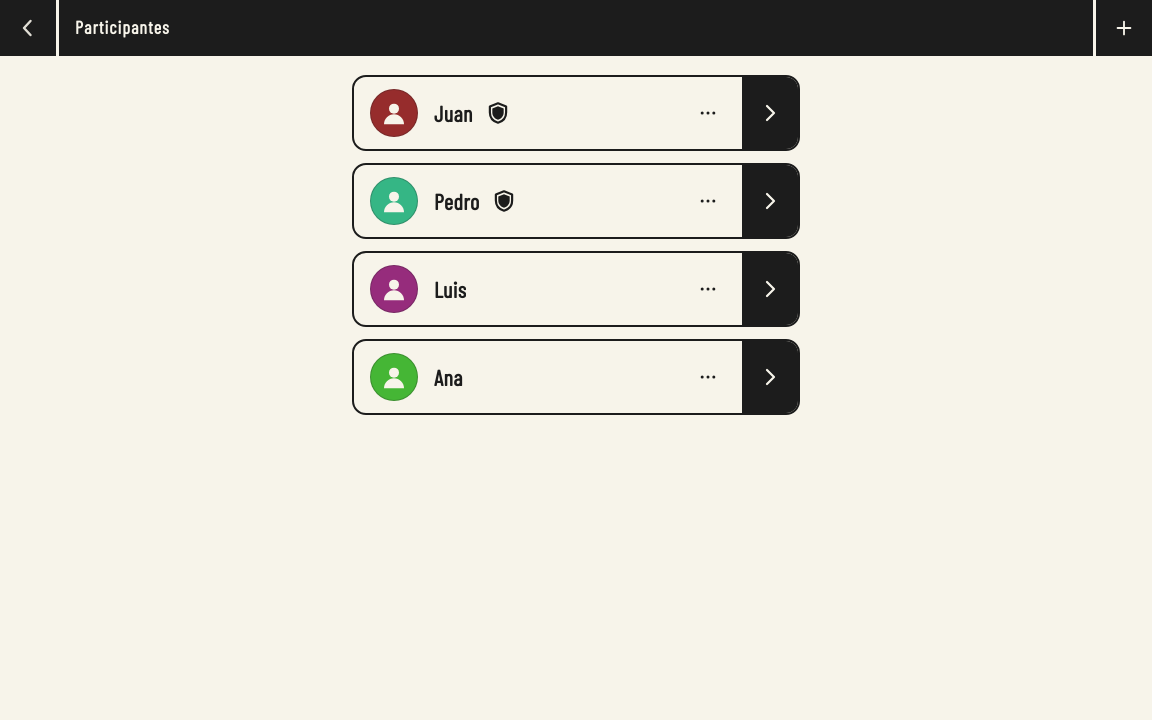
it: ParticipantsScreen (administración) › el administrador pone la foto solo a un integrante que nadie eligió
// Pedro (m2) ya fue elegido: su foto es la de su cuenta.
Click the button named "Opciones de Pedro" at [708, 201], box [686,179,730,223]
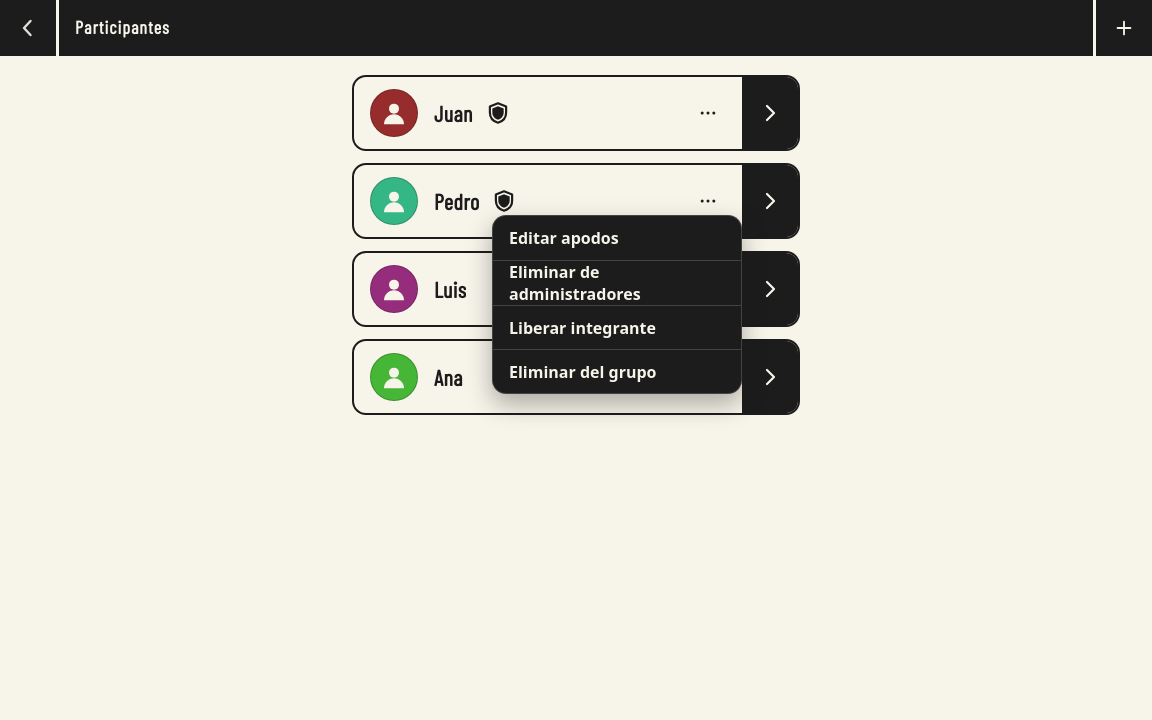
Expected: the menu item "Cambiar foto" is not shown
Click the button named "Opciones de Pedro" at [708, 201], box [686,179,730,223]
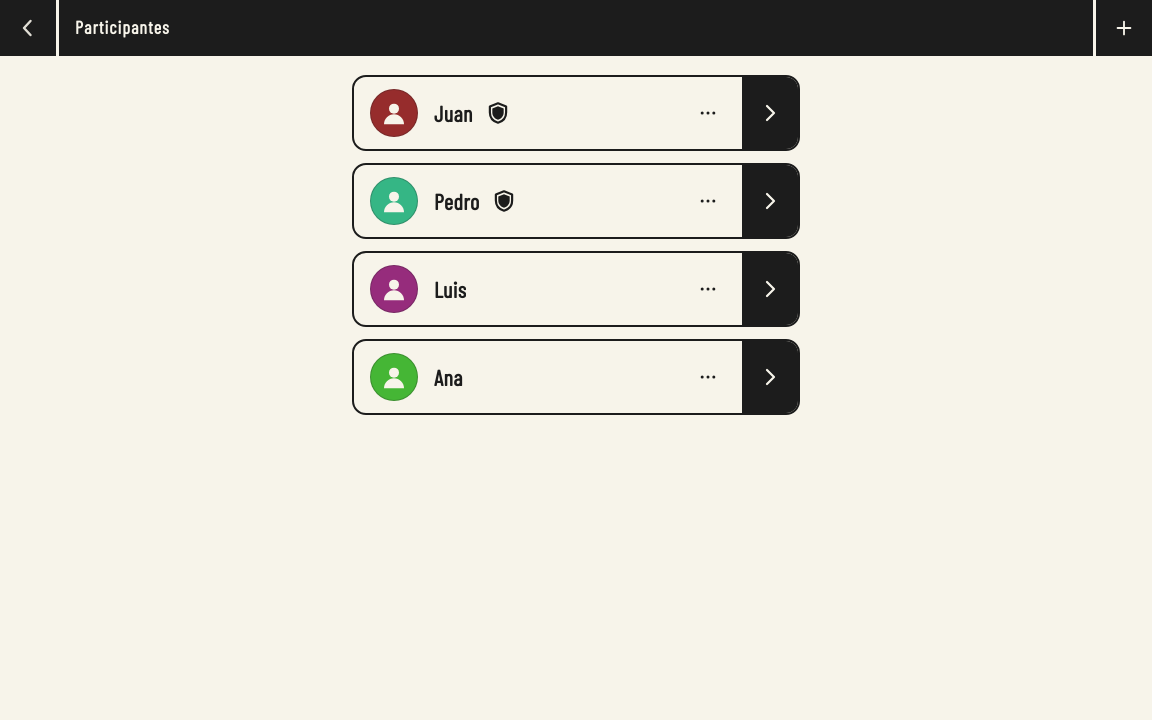
Click the button named "Opciones de Luis" at [708, 289], box [686,267,730,311]
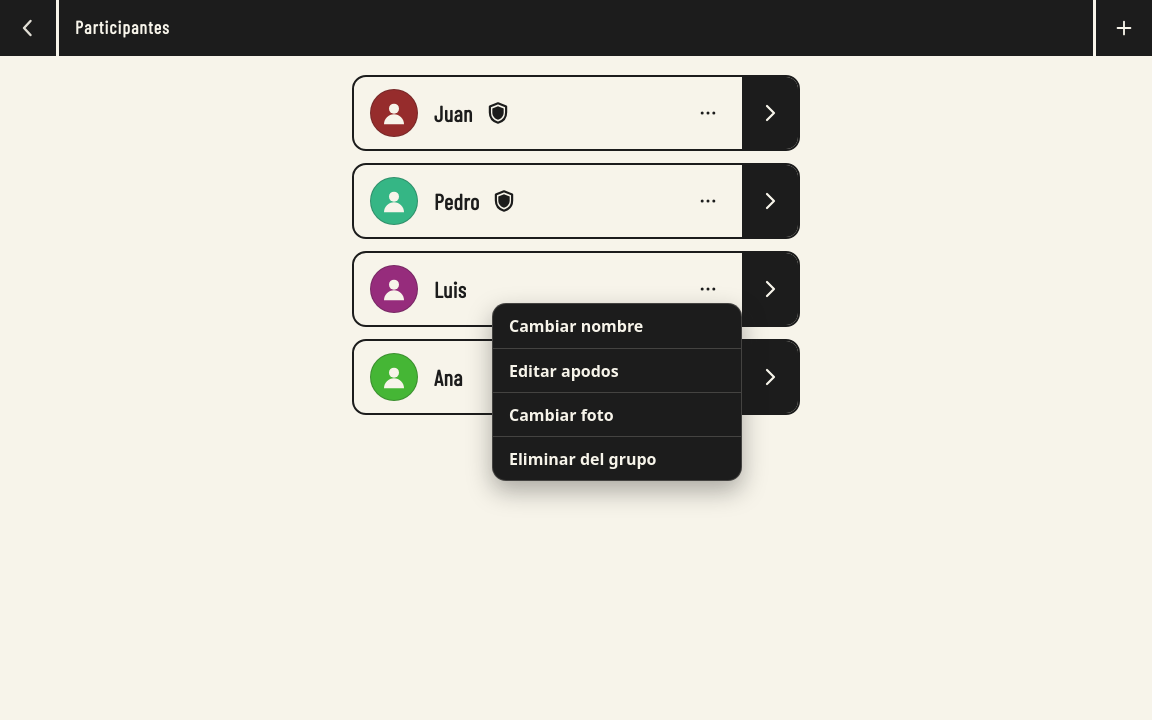
Click the menu item "Cambiar foto" at [617, 414], box [493,392,741,436]
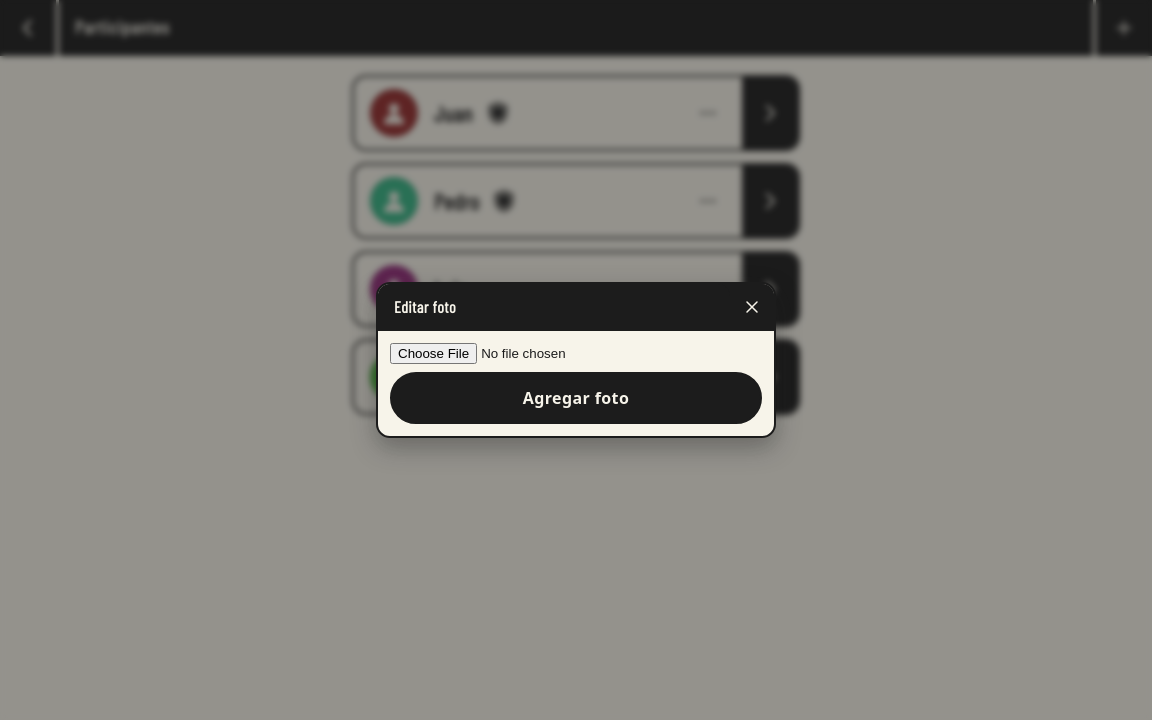
Now the dialog shows "Editar foto", box [394,297,456,316]
